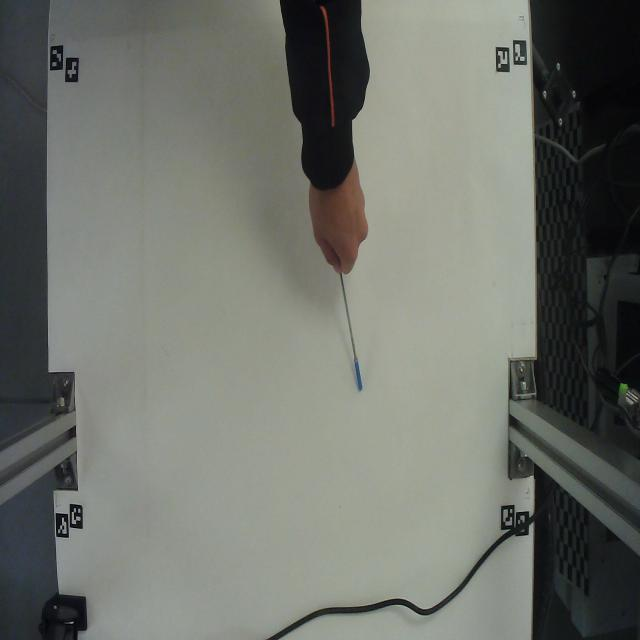Pres: (324, 260, 374, 423)
